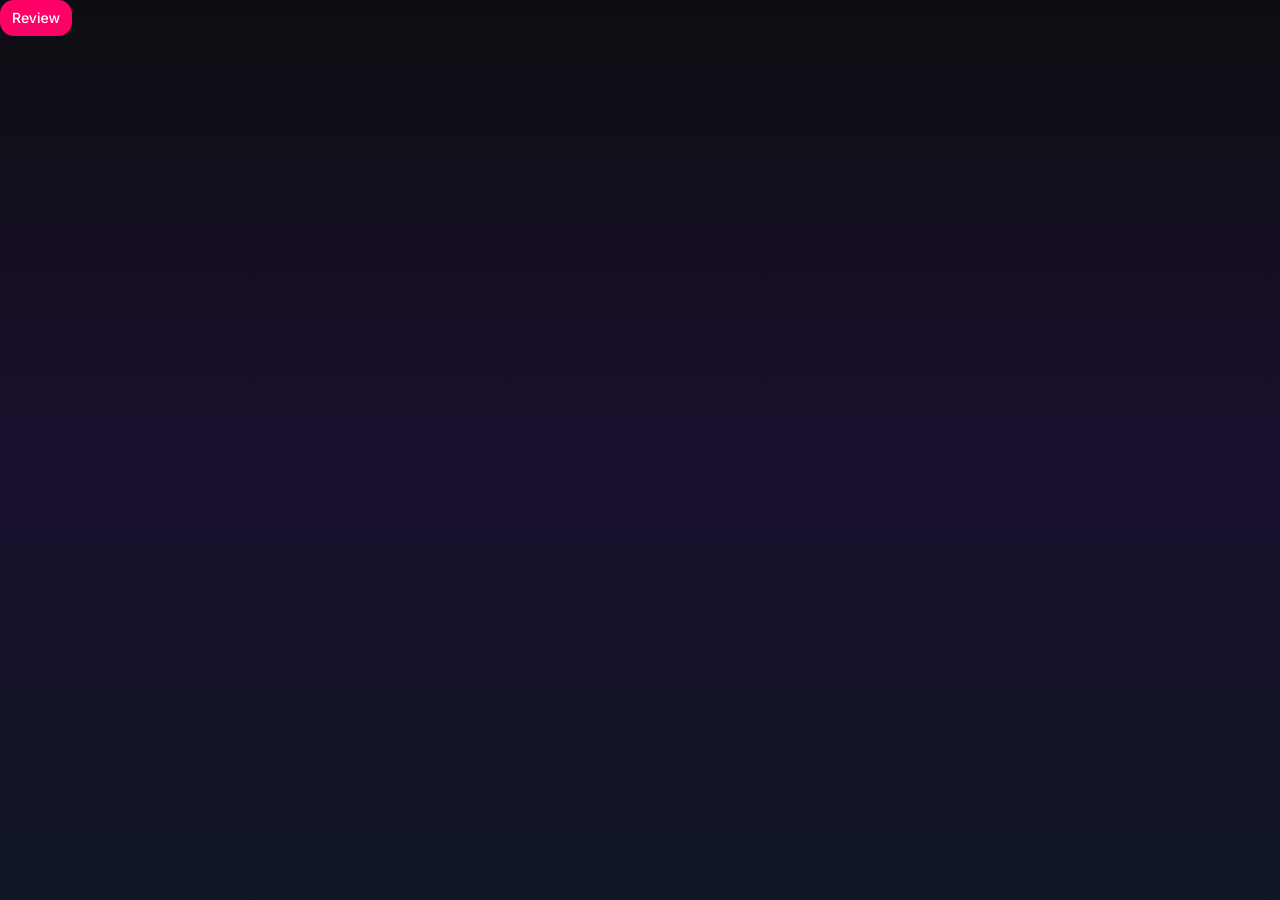
change request review dialog › shows old → new values with both audio files, and approves only after the same-song confirmation
Later steps or results of the test are not shown.
What coordinates should you click on to do the following:
click the button "Review"
I would click on:
 (36, 18)
Its box is [0,0,72,36].
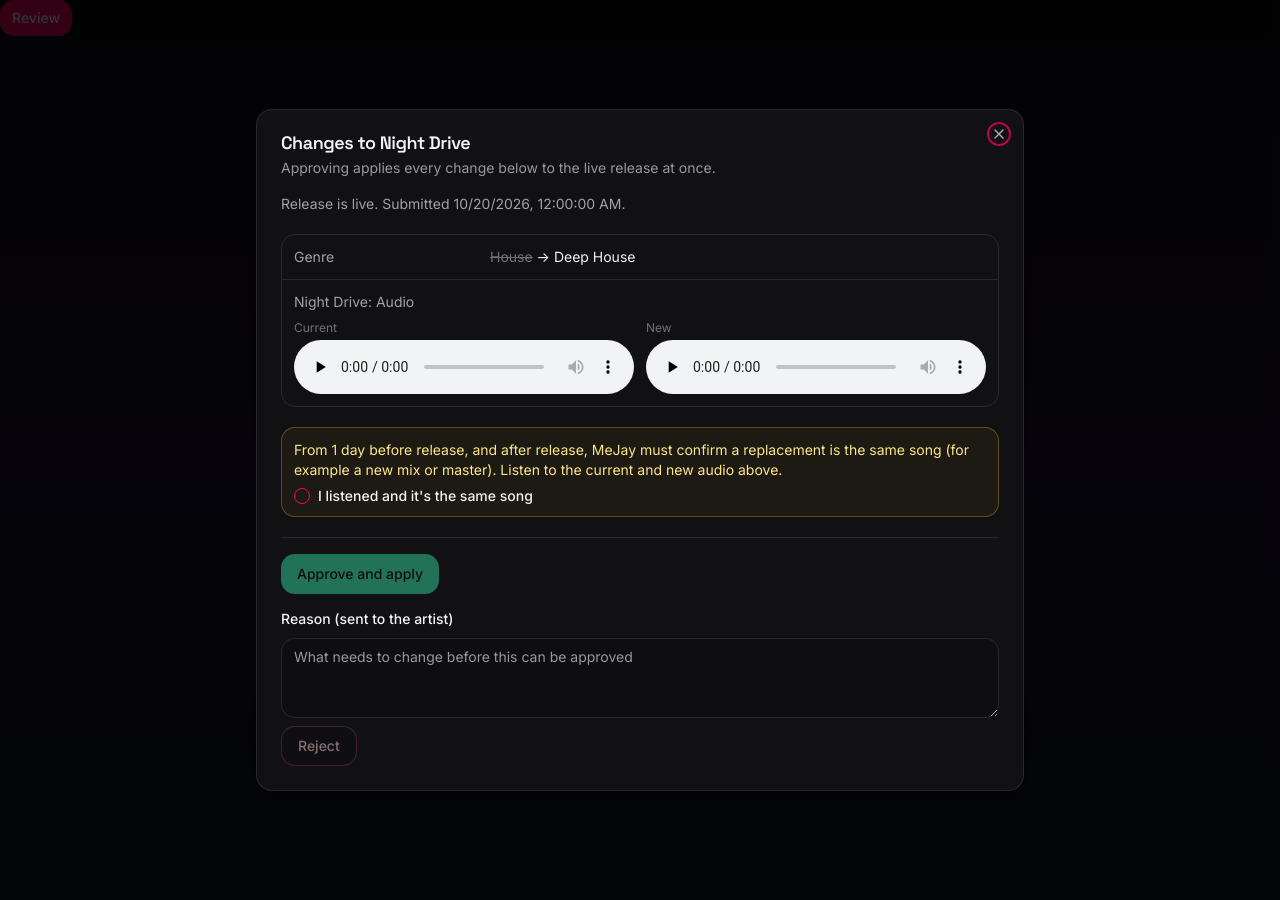
Check: the text "Deep House" is shown, box [554,248,636,265]
Check: the text "House" is shown, box [490,248,533,265]
Check: the button "Approve and apply" is disabled, box [281,554,439,594]
What coordinates should you click on to do the following:
click the checkbox
I would click on:
 (302, 496)
Its box is [294,488,310,504].
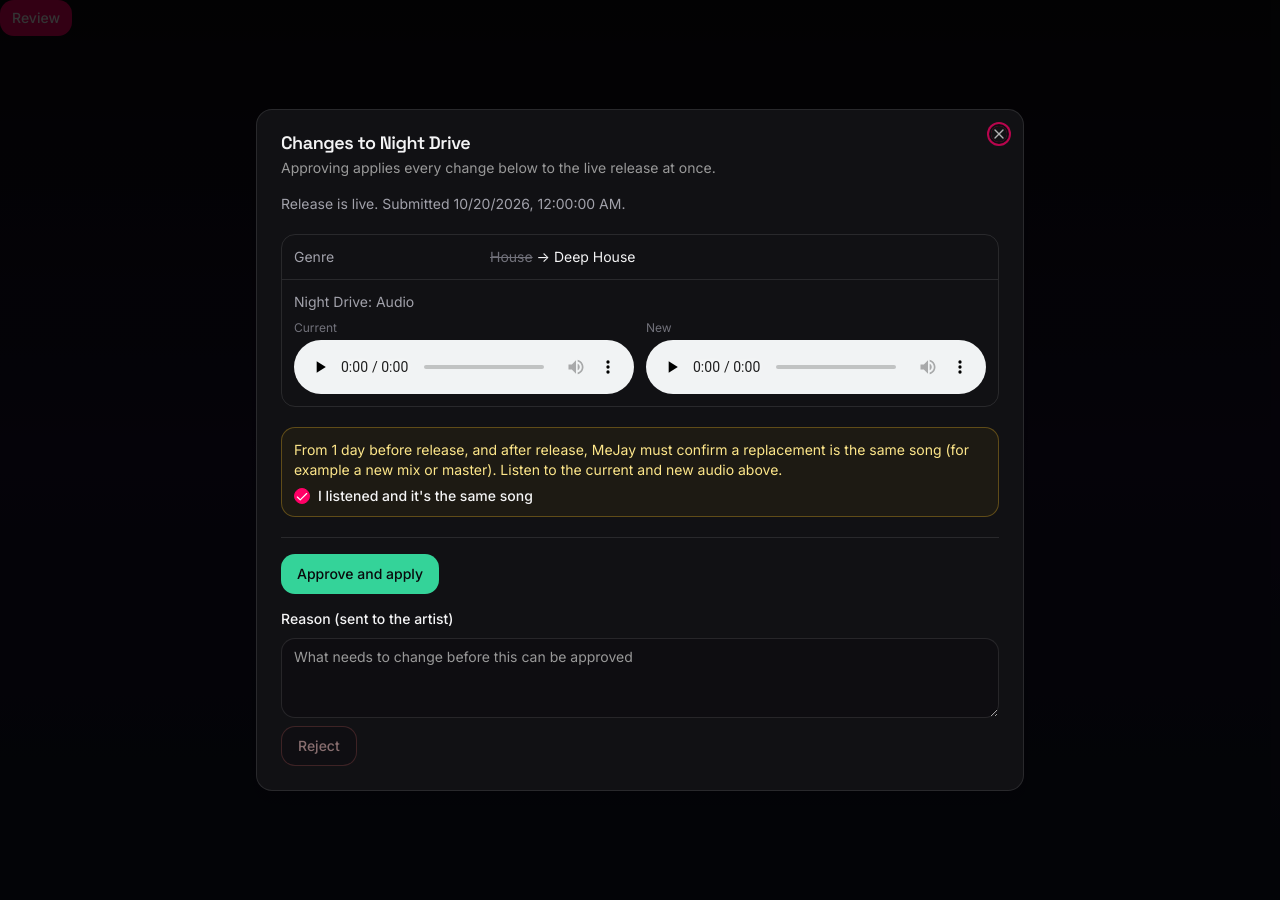
Check: the button "Approve and apply" is enabled, box [281,554,439,594]
